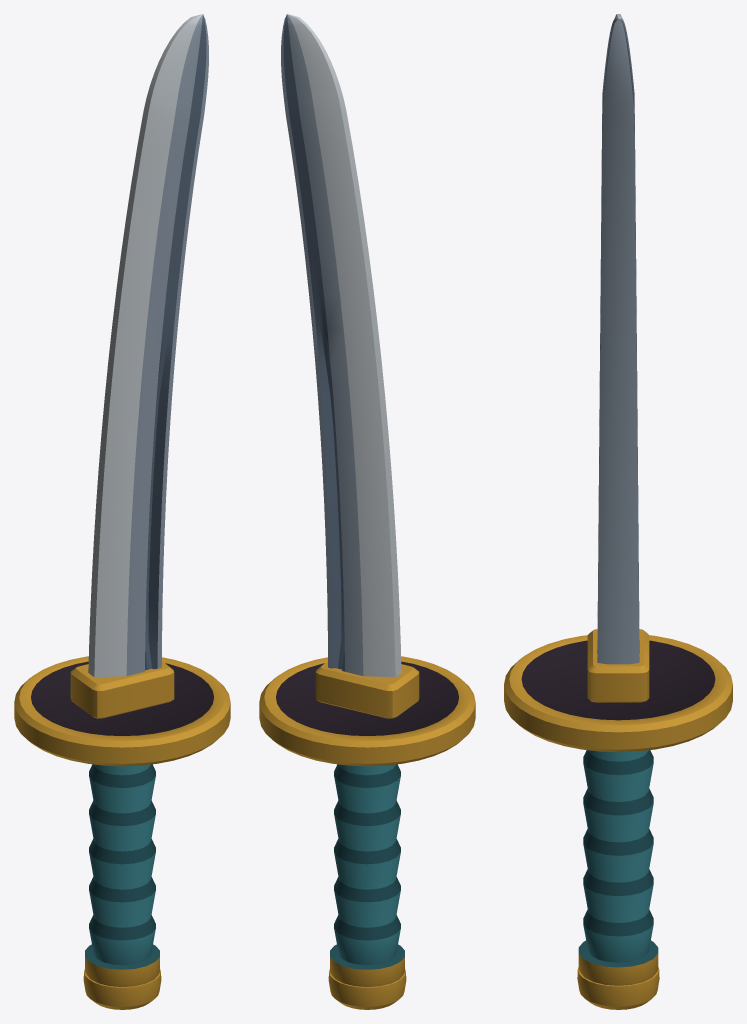
The model's file is Katana_19.glb.
3 renders of one model, left to right at view 1: azimuth 30°, elevation 25°; view 2: azimuth 150°, elevation 25°; view 3: azimuth 270°, elevation 25°, orthographic. The views are drawn at different scales.
Parts seen in each view (by area): view 1: Katana_19; view 2: Katana_19; view 3: Katana_19.
Boxes of the visible parts, x1,y1,x2,y2 form: Katana_19: [14, 14, 230, 1009]; Katana_19: [259, 14, 475, 1009]; Katana_19: [504, 14, 732, 1009].
Size of the model in its own units: 1.31 by 6.46 by 1.31.
